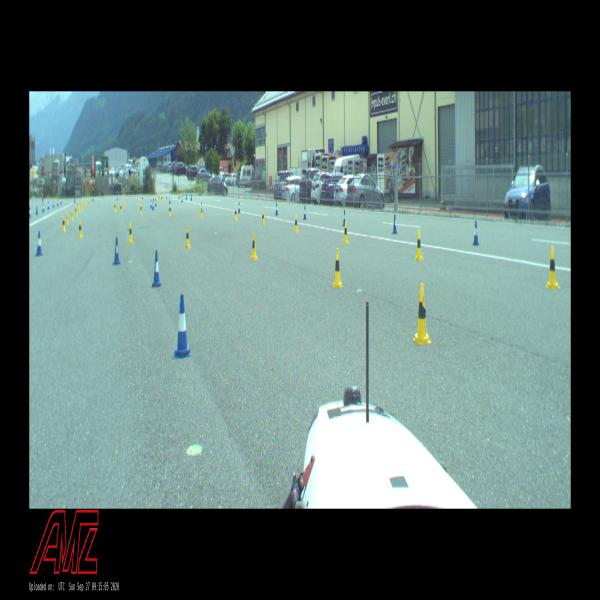blue_cone: (175, 294, 191, 359), (152, 250, 161, 287), (113, 237, 120, 265), (36, 231, 43, 256), (473, 220, 479, 245), (392, 214, 398, 233), (303, 207, 307, 220), (343, 210, 346, 226), (275, 203, 278, 215), (238, 202, 240, 213), (29, 207, 31, 218), (200, 201, 202, 212), (42, 203, 44, 212), (36, 205, 38, 214), (150, 200, 152, 208), (152, 202, 154, 210), (155, 199, 157, 206), (181, 196, 183, 202), (169, 197, 171, 203), (48, 202, 49, 210), (53, 201, 54, 207), (186, 194, 187, 199)
yellow_cone: (413, 284, 431, 344), (546, 247, 560, 288), (333, 248, 342, 288), (415, 230, 424, 261), (251, 233, 258, 259), (184, 226, 191, 248), (343, 221, 349, 244), (128, 222, 133, 242), (294, 214, 299, 233), (78, 220, 83, 237), (62, 216, 66, 232), (261, 210, 265, 224), (234, 207, 238, 220), (71, 209, 74, 220), (66, 212, 68, 224), (200, 206, 202, 217), (169, 204, 171, 215), (140, 204, 142, 214), (75, 206, 77, 215), (120, 204, 122, 212), (114, 202, 116, 210), (162, 195, 164, 201), (158, 195, 160, 200), (79, 204, 80, 213), (161, 195, 162, 202), (138, 198, 139, 205)
